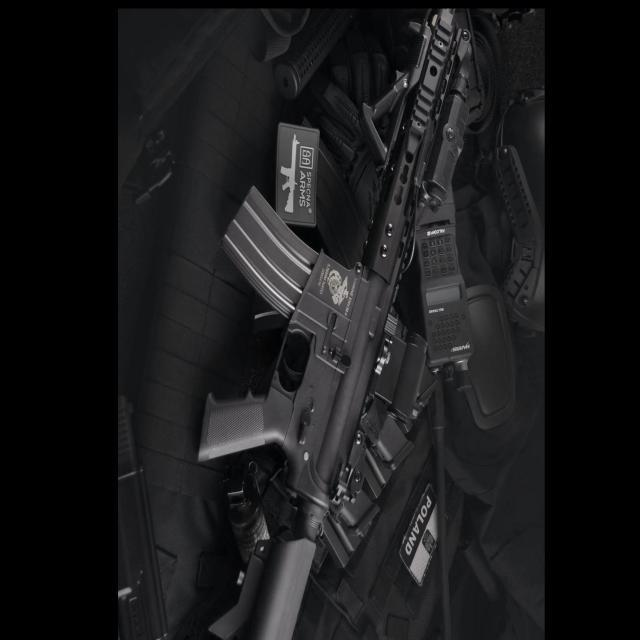weapon: (194, 7, 476, 640)
